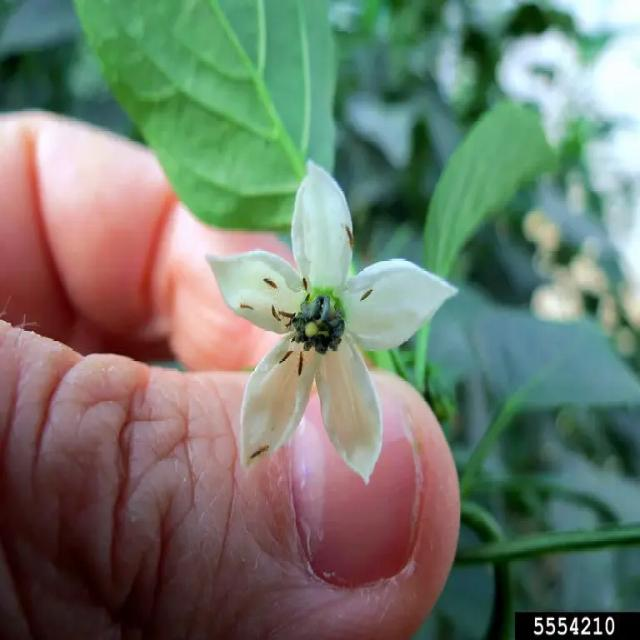Thrip-Adult-: (248, 436, 272, 464), (341, 215, 357, 255), (258, 272, 283, 295), (278, 342, 297, 369), (294, 345, 308, 380), (358, 287, 376, 305), (270, 302, 280, 324), (277, 308, 297, 319), (300, 274, 311, 292)
